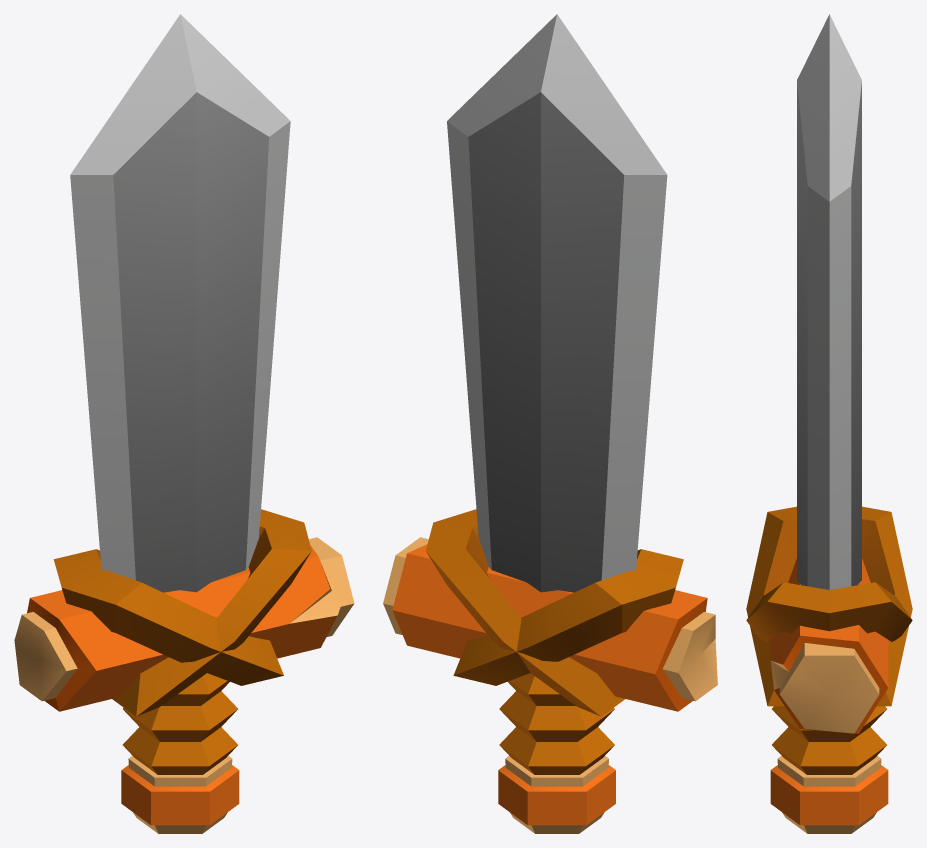
File: Weapon_Sword_lvl01.fbx
3 renders of one model, left to right at view 1: azimuth 30°, elevation 25°; view 2: azimuth 150°, elevation 25°; view 3: azimuth 270°, elevation 25°, orthographic.
Parts seen in each view (by area): view 1: Weapon_Sword_lvl01; view 2: Weapon_Sword_lvl01; view 3: Weapon_Sword_lvl01.
Boxes of the visible parts, left/top/right/bottom form: Weapon_Sword_lvl01: left=14, top=14, right=354, bottom=833; Weapon_Sword_lvl01: left=383, top=14, right=717, bottom=833; Weapon_Sword_lvl01: left=746, top=14, right=912, bottom=833.
Size of the model in its own units: 43.32 by 111 by 20.89.
